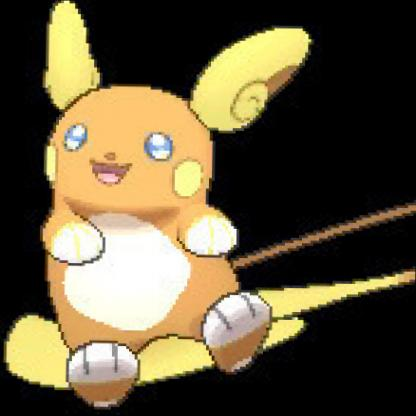Raichu: (1, 1, 416, 416)
